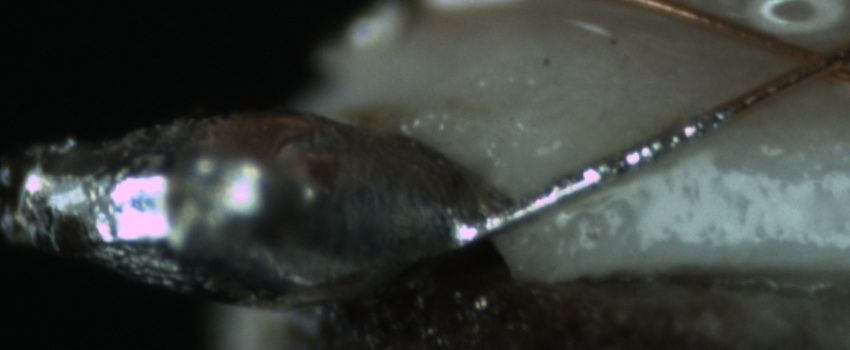CL: (771, 29, 848, 86)
TS: (469, 97, 728, 247)
TTCW: (455, 66, 790, 245)
